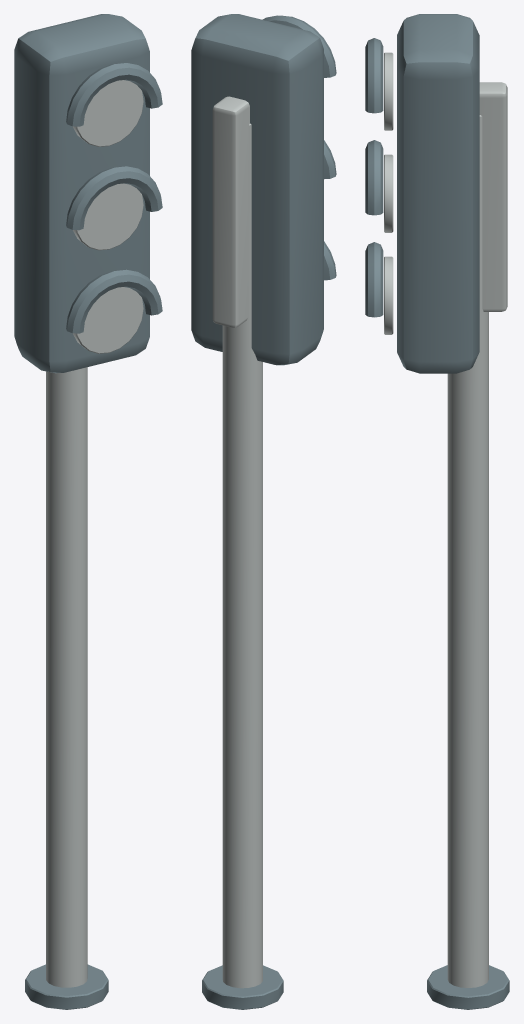
Rendered from traffic-light.glb.
3 views of the same model, side by side, from view 1: azimuth 30°, elevation 25°; view 2: azimuth 150°, elevation 25°; view 3: azimuth 270°, elevation 25° (orthographic). The views are drawn at different scales.
Parts seen in each view (by area): view 1: signal_housing, signal_pole, signal_lens.002, signal_lens.001, signal_lens, lens_hood, lens_hood.001, lens_hood.002, signal_pole_foot; view 2: signal_housing, signal_pole, rear_mount, signal_pole_foot, lens_hood.002; view 3: signal_housing, signal_pole, rear_mount, signal_pole_foot, lens_hood, lens_hood.001, lens_hood.002, signal_lens, signal_lens.001, signal_lens.002.
Part boxes in pixels (x1,y1,x2,y2): signal_housing: (14,14,149,373); signal_pole: (46,367,87,987); signal_lens.002: (72,80,143,146); signal_lens.001: (73,183,143,250); signal_lens: (72,287,143,353); lens_hood: (66,269,162,333); lens_hood.001: (66,166,162,230); lens_hood.002: (66,63,162,126); signal_pole_foot: (25,964,108,1009); signal_housing: (191,14,323,365); signal_pole: (222,123,262,988); rear_mount: (212,96,249,327); signal_pole_foot: (202,965,283,1009); lens_hood.002: (262,15,336,77); signal_housing: (397,14,479,373); signal_pole: (447,115,488,987); rear_mount: (479,82,507,311); signal_pole_foot: (427,965,509,1009); lens_hood: (365,242,383,317); lens_hood.001: (365,140,383,215); lens_hood.002: (365,38,383,113); signal_lens: (384,256,393,334); signal_lens.001: (384,154,393,232); signal_lens.002: (384,52,393,130).
Bounding box in the file's own units: 0.34 × 2.82 × 0.384.
